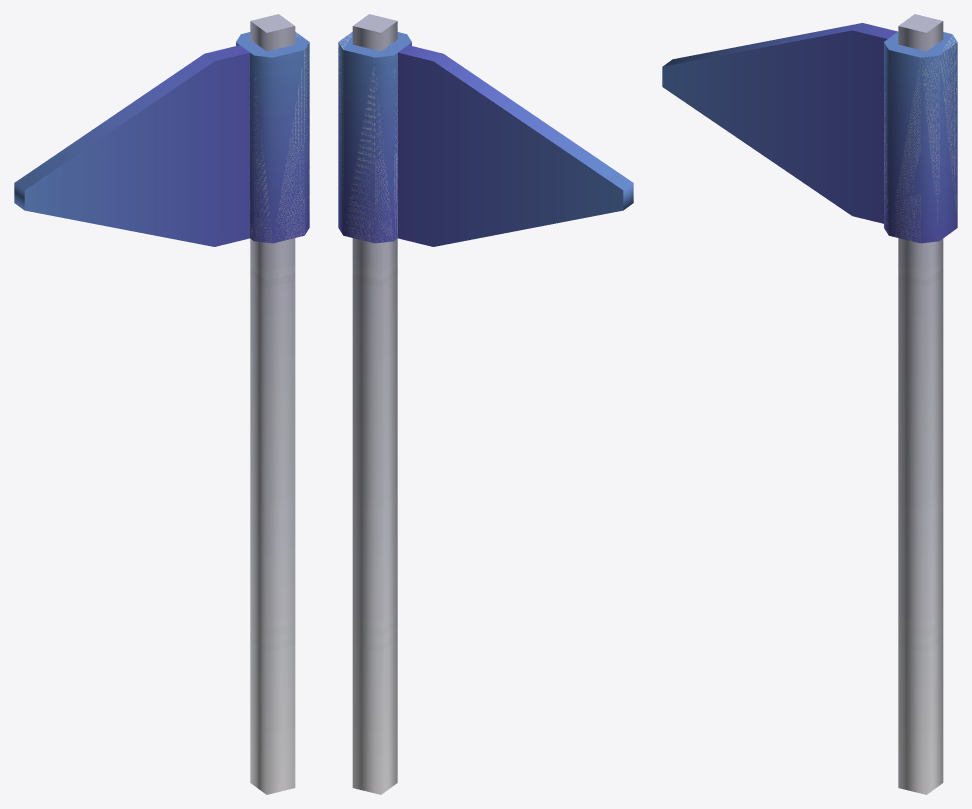
The model's file is flag-blue.glb.
3 views of the same model, side by side, from view 1: azimuth 30°, elevation 25°; view 2: azimuth 150°, elevation 25°; view 3: azimuth 330°, elevation 25° (orthographic).
Parts seen in each view (by area): view 1: flag-blue; view 2: flag-blue; view 3: flag-blue.
Boxes of the visible parts, bbox=[...] form: flag-blue: bbox=[14, 14, 309, 794]; flag-blue: bbox=[338, 14, 633, 794]; flag-blue: bbox=[662, 14, 957, 794].
Size of the model in its own units: 0.3955 by 1.02 by 0.0781.
1 material, 1 textured.
